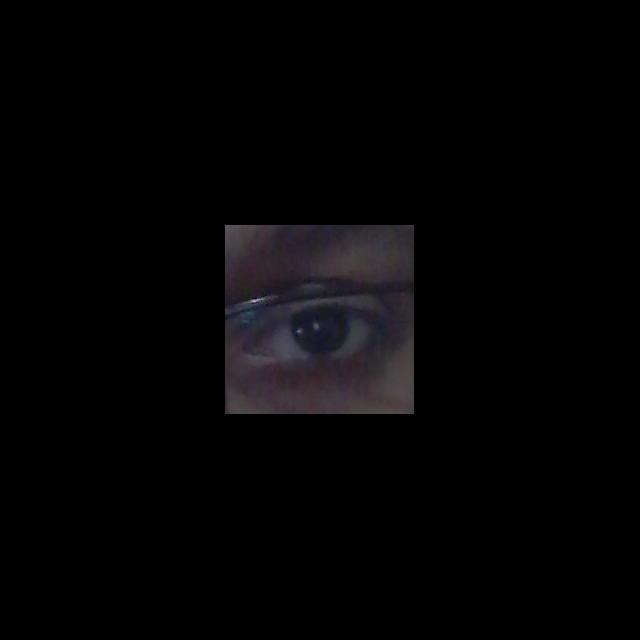eye: (259, 308, 376, 360)
iris: (292, 311, 350, 356)
